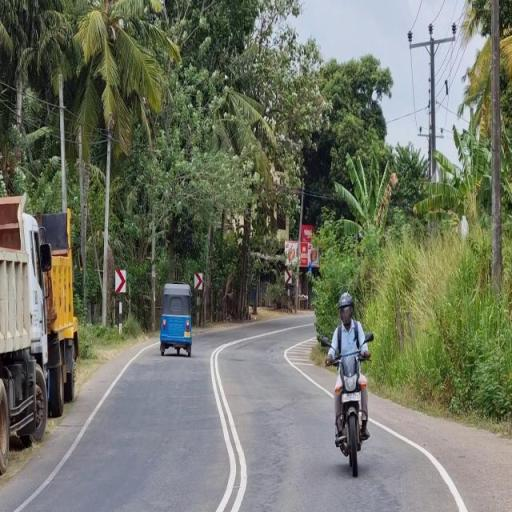double_white_line: (208, 338, 247, 512)
